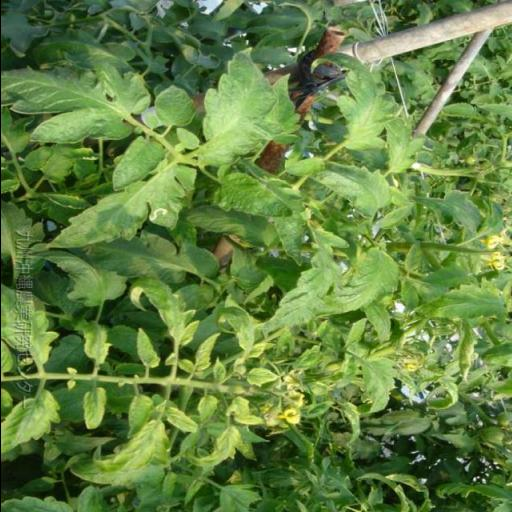disease_tomato: (254, 241, 336, 347), (320, 244, 398, 328), (404, 278, 508, 330), (128, 278, 203, 342), (89, 418, 165, 476), (0, 392, 63, 461), (182, 428, 248, 474), (356, 354, 400, 418), (214, 306, 266, 358), (70, 318, 114, 370), (178, 332, 222, 374), (124, 394, 155, 442), (78, 386, 106, 436), (134, 326, 164, 370), (222, 395, 264, 425), (240, 365, 280, 395), (195, 392, 221, 426)
